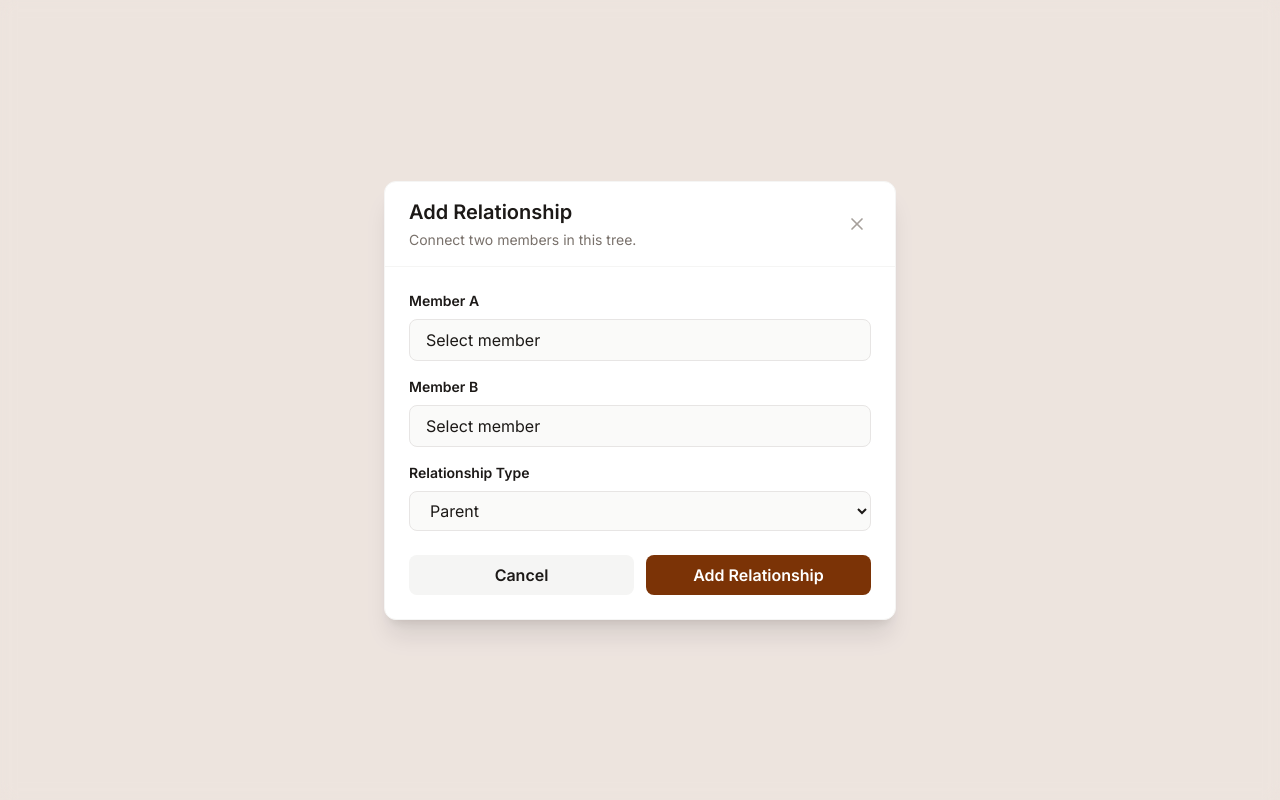
AddRelationshipModal › shows a notice that an existing spouse relationship will be replaced when switching to Divorced
Click the button "Select member" below "Member A" at x=483, y=340, box [409,318,871,360]
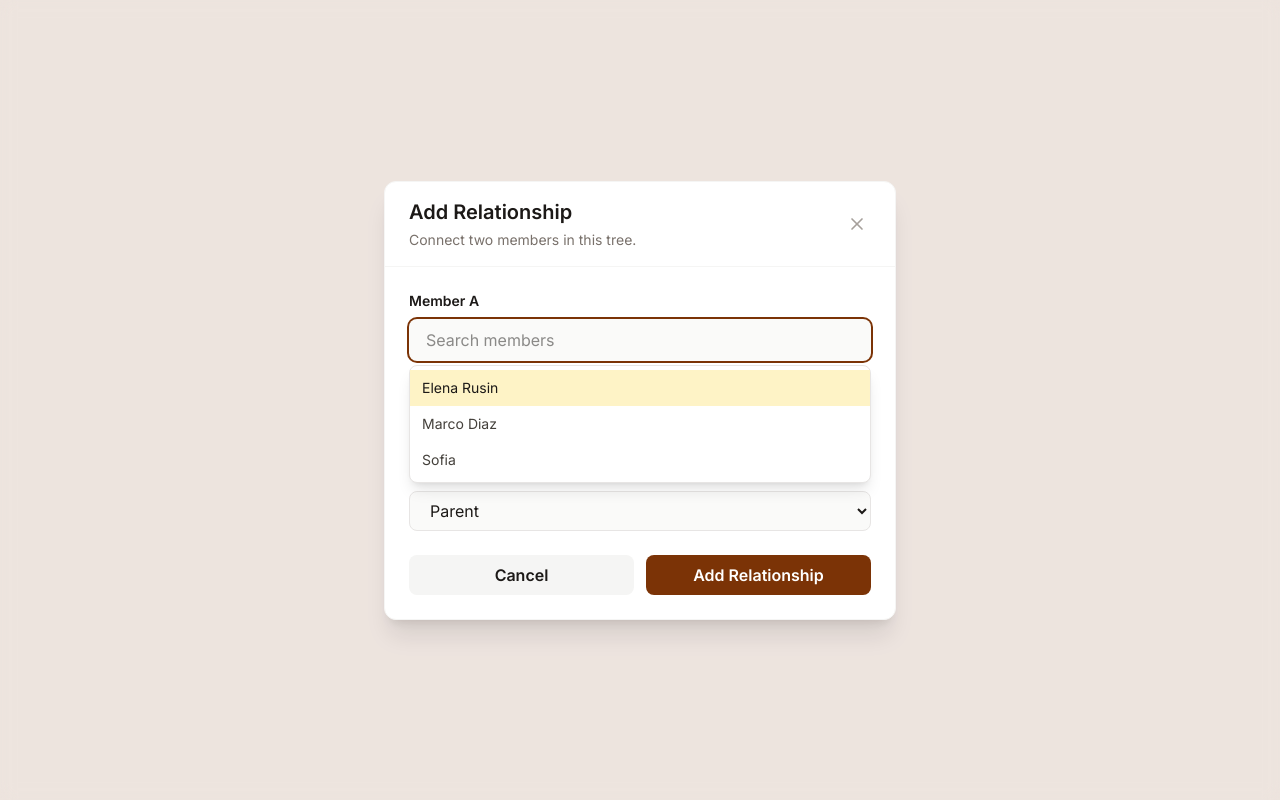
Click the option "Elena Rusin" at x=460, y=387, box [410,370,870,406]
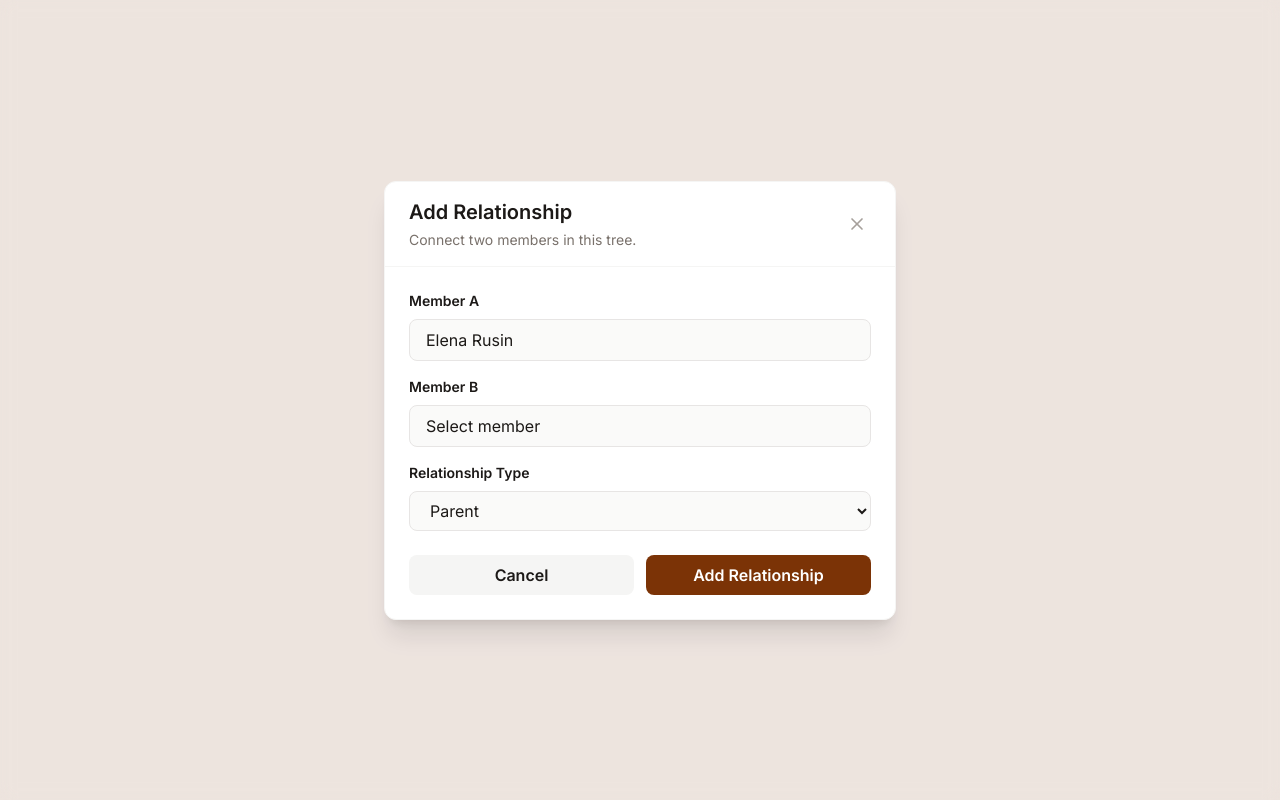
Click the button "Select member" at x=483, y=426, box [409,404,871,446]
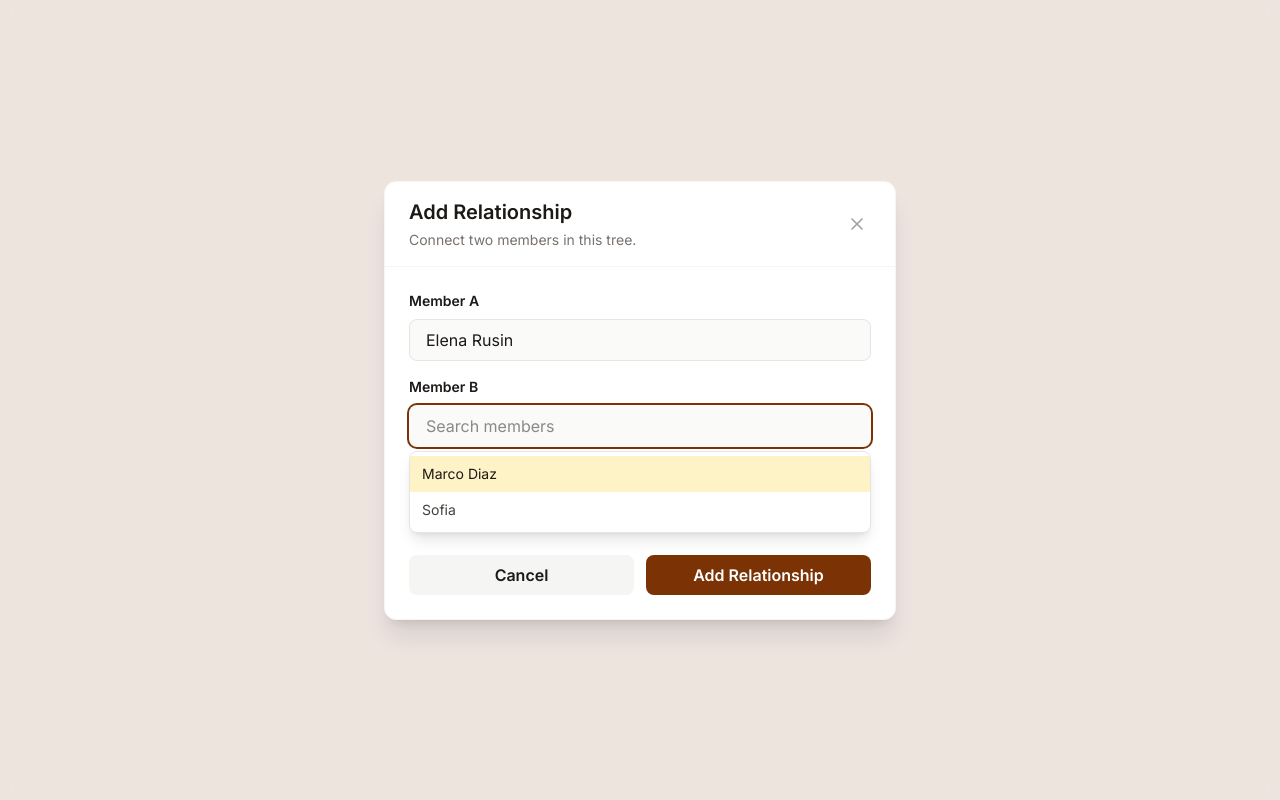
Click the option "Marco Diaz" at x=459, y=473, box [410,456,870,492]
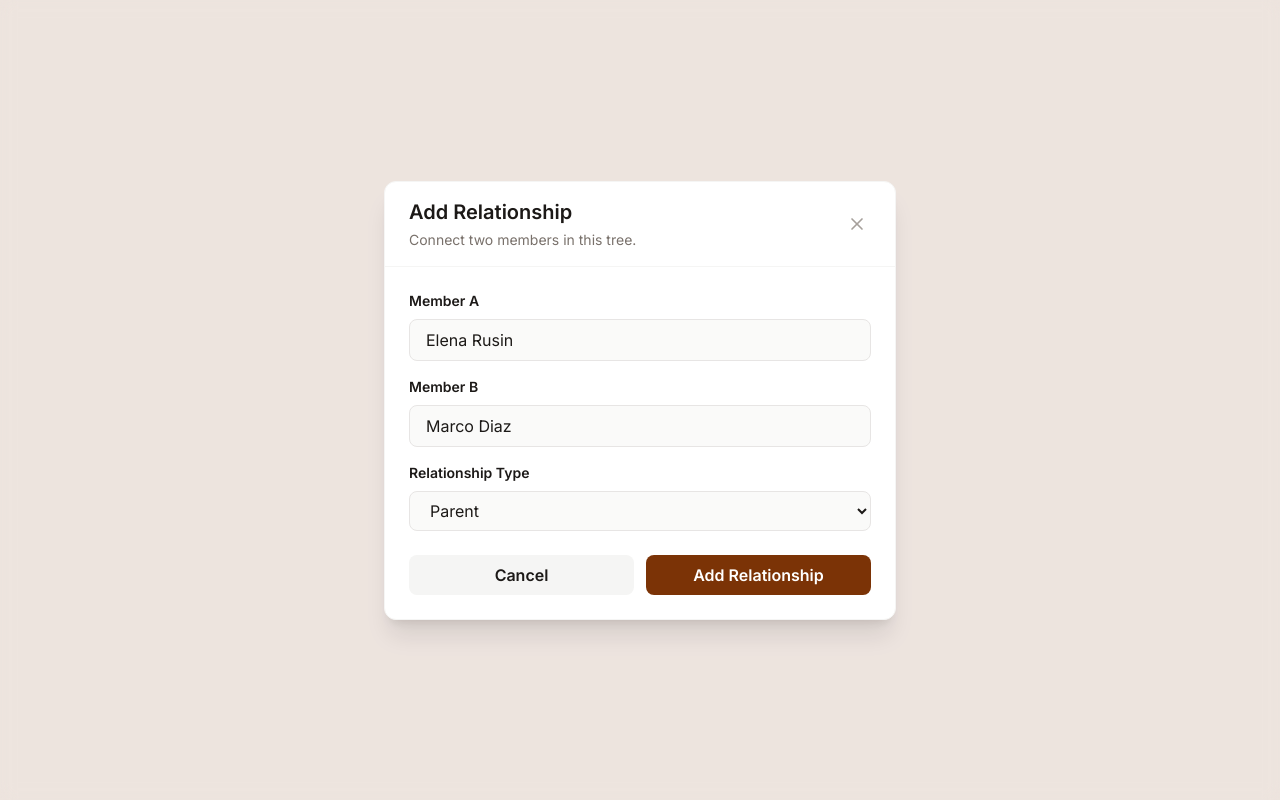
Select "Divorced" in the dropdown at x=640, y=510, box [409,490,871,530]
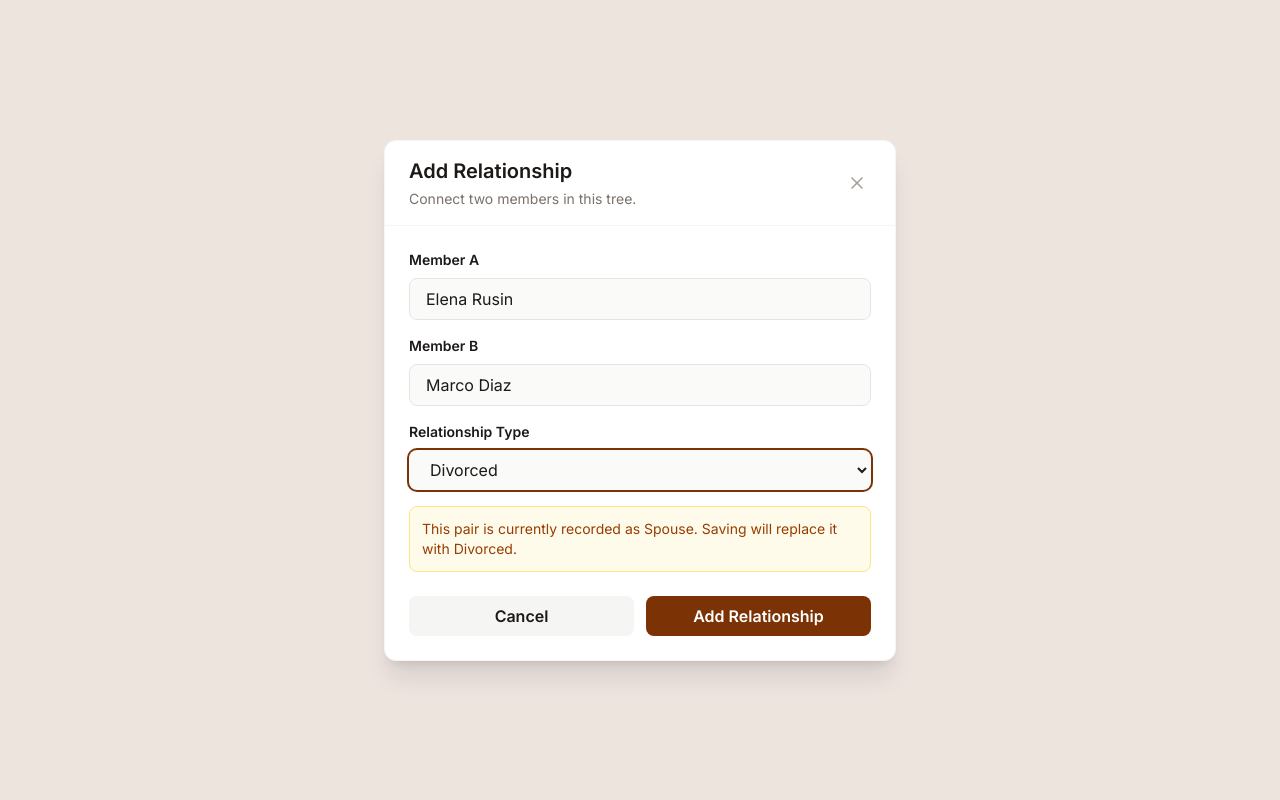
Expected: the text "This pair is currently recorded as Spouse. Saving will replace it with Divorced." is shown, [422,518,858,558]
